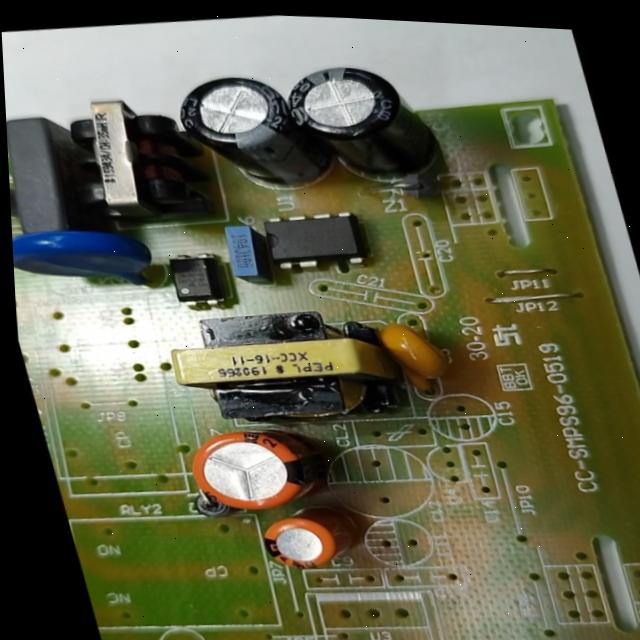Cap1: (163, 418, 356, 523)
Cap2: (231, 491, 380, 586)
Cap3: (170, 64, 335, 211)
Cap4: (267, 53, 456, 213)
MOSFET: (233, 196, 397, 292)
Mov: (11, 206, 179, 308)
Resistor: (9, 170, 26, 224)
Transformer: (144, 288, 435, 452), (43, 83, 221, 238)
